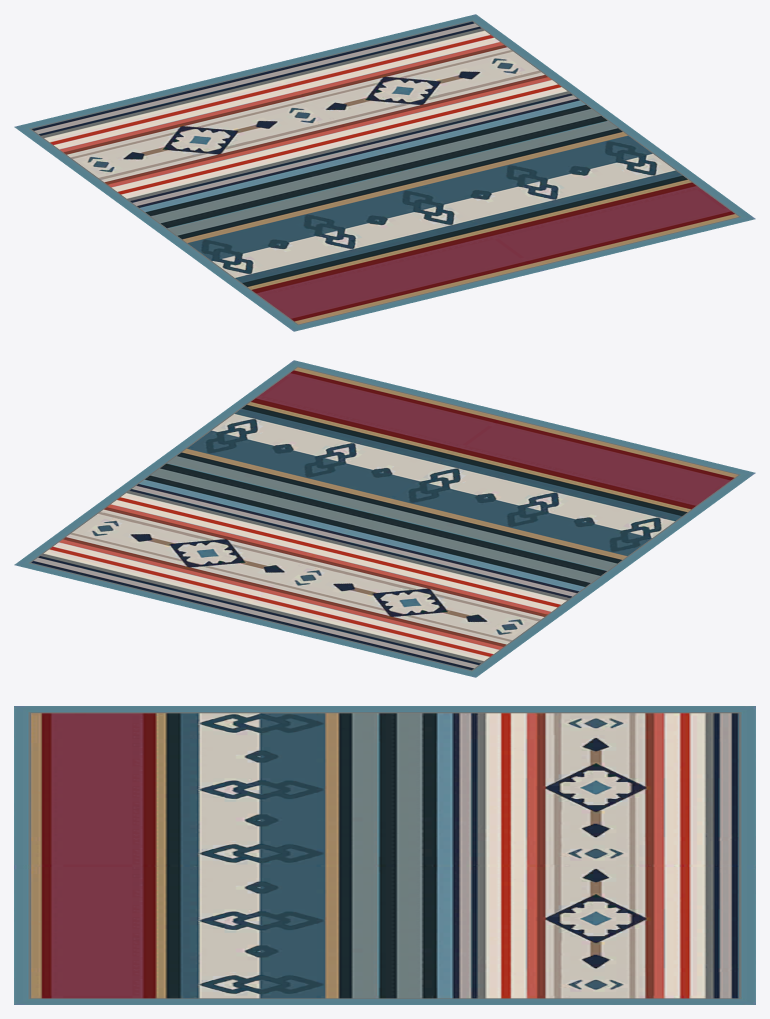
Rendered from my_military_01_carpet_01.glb.
The picture shows the model from 3 angles, top to bottom: view 1: azimuth 30°, elevation 25°; view 2: azimuth 150°, elevation 25°; view 3: azimuth 270°, elevation 25°; orthographic projection. The views are drawn at different scales.
Parts seen in each view (by area): view 1: my_military_01_carpet_01; view 2: my_military_01_carpet_01; view 3: my_military_01_carpet_01.
Part boxes in pixels (<box>): my_military_01_carpet_01: <box>14,14,755,331</box>; my_military_01_carpet_01: <box>14,360,755,677</box>; my_military_01_carpet_01: <box>14,706,755,1004</box>.
Size of the model in its own units: 0.0191 by 2.91e-13 by 0.02.
1 material, 1 textured.
